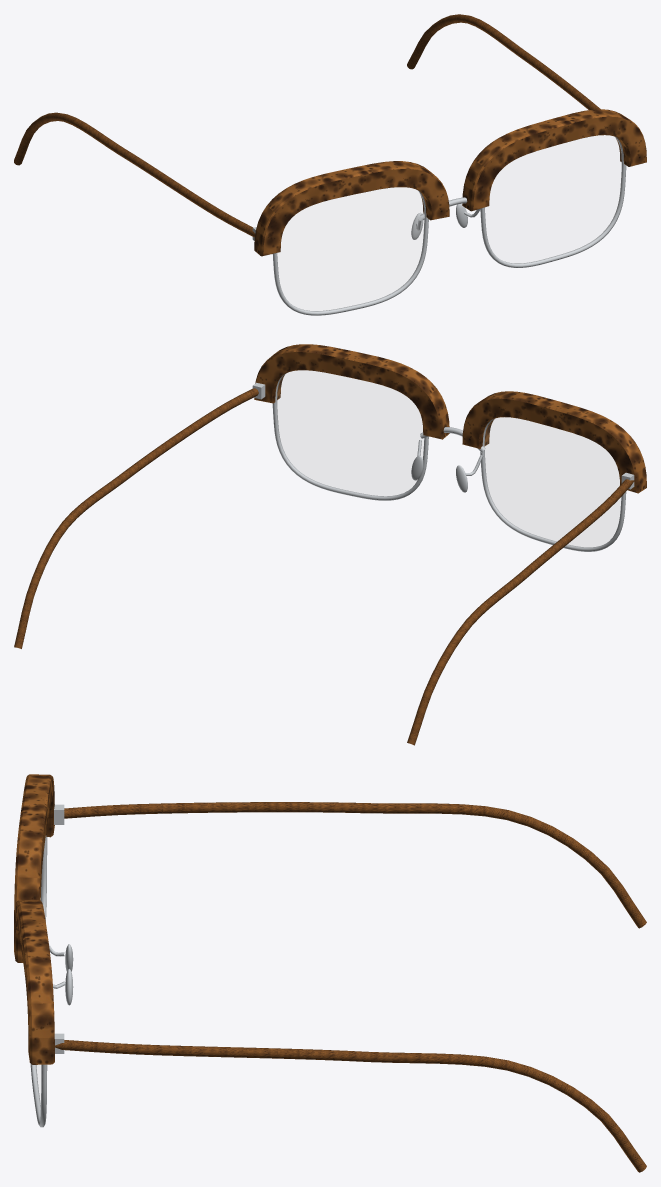
File: NY-M05_Elm_Havana_Silver.glb
3 renders of one model, top to bottom at view 1: azimuth 30°, elevation 25°; view 2: azimuth 150°, elevation 25°; view 3: azimuth 270°, elevation 25°, orthographic. The views are drawn at different scales.
Parts seen in each view (by area): view 1: Elm_Havana_Silver_Lenses, Elm_Havana_Silver_Acetate, Elm_Havana_Silver_Metal; view 2: Elm_Havana_Silver_Lenses, Elm_Havana_Silver_Acetate, Elm_Havana_Silver_Metal; view 3: Elm_Havana_Silver_Acetate, Elm_Havana_Silver_Metal.
Part boxes in pixels (bbox=[...]): Elm_Havana_Silver_Lenses: bbox=[278, 135, 621, 310]; Elm_Havana_Silver_Acetate: bbox=[14, 14, 646, 256]; Elm_Havana_Silver_Metal: bbox=[252, 136, 626, 315]; Elm_Havana_Silver_Lenses: bbox=[277, 371, 620, 546]; Elm_Havana_Silver_Acetate: bbox=[14, 344, 646, 745]; Elm_Havana_Silver_Metal: bbox=[252, 373, 634, 551]; Elm_Havana_Silver_Acetate: bbox=[14, 774, 646, 1172]; Elm_Havana_Silver_Metal: bbox=[30, 804, 73, 1127].
Bounding box in the file's own units: 0.1441 × 0.0483 × 0.1511.
Materials: 3 (1 with a texture image).
